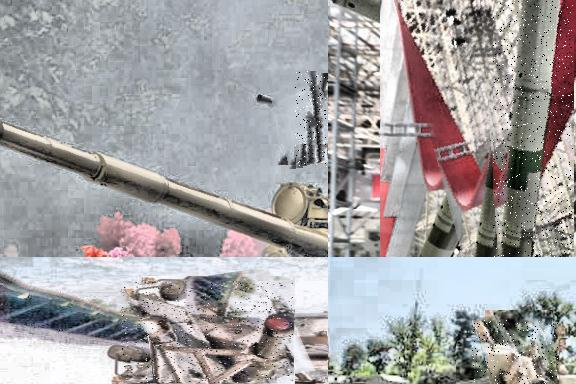tanks: (1, 120, 329, 258), (123, 282, 294, 384), (495, 1, 559, 258), (474, 321, 546, 384), (296, 73, 329, 168)
